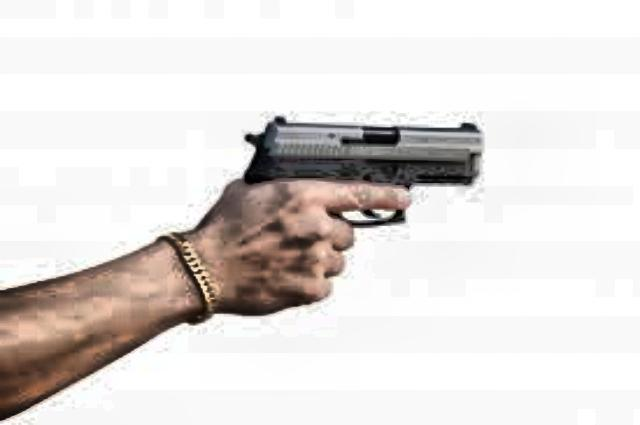pistol: (219, 110, 481, 304)
